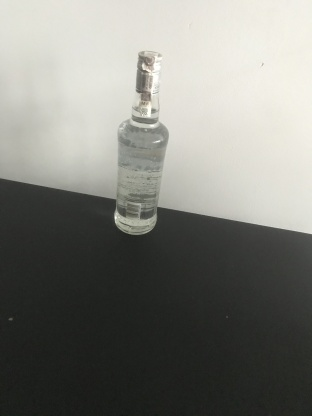nakretka: (134, 48, 164, 98)
